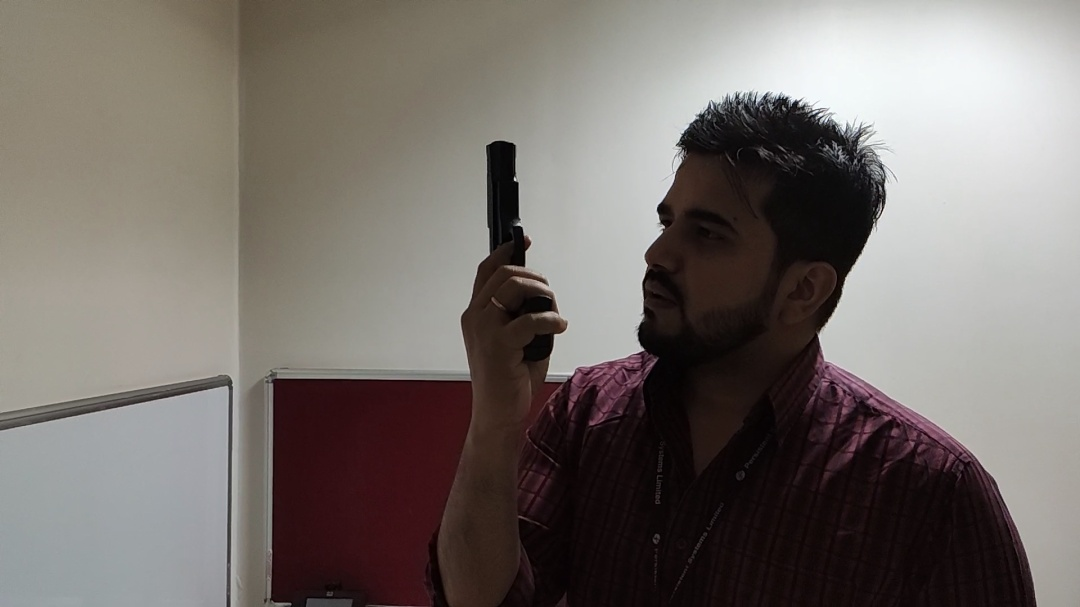gun: (477, 131, 562, 376)
